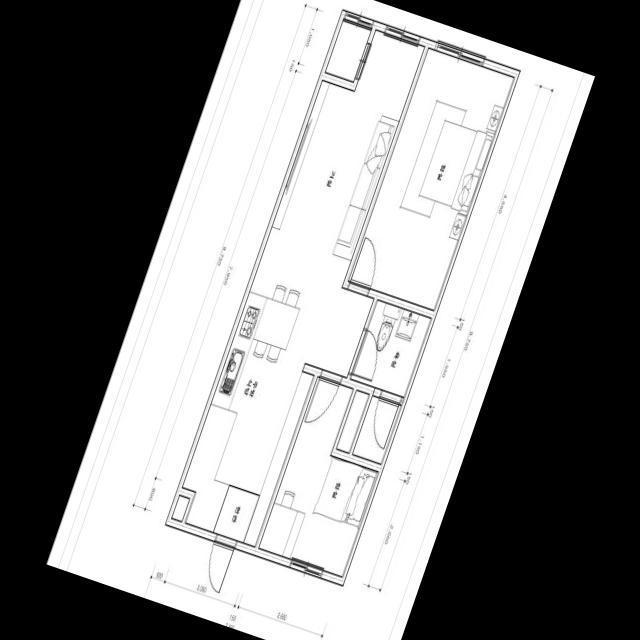background: (46, 0, 594, 640)
space_bedroom: (348, 48, 513, 310), (258, 377, 377, 576)
space_front: (213, 486, 258, 542)
space_kitchen: (182, 291, 290, 532)
space_living_room: (229, 30, 423, 546)
space_other: (324, 19, 371, 81), (336, 390, 368, 452), (171, 495, 188, 521)
space_toilet: (350, 300, 430, 397), (352, 396, 400, 463)
